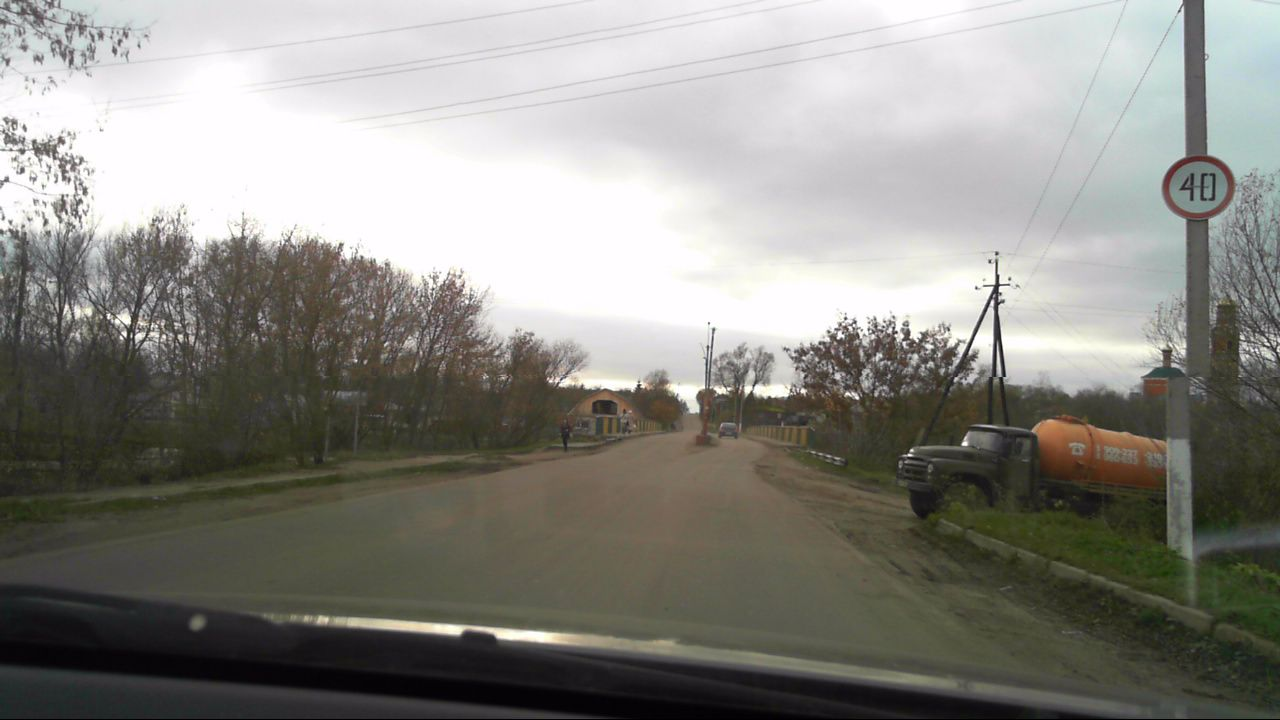speed_warning_40: (1161, 154, 1237, 221)
